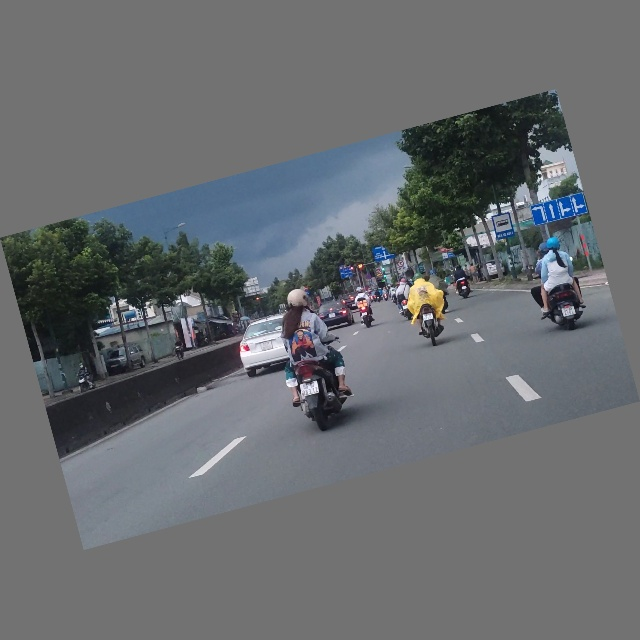I.434a: (491, 211, 515, 241)
P.137: (397, 261, 405, 269)
